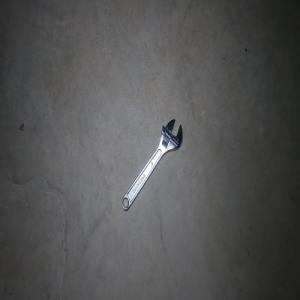Wrench: (121, 118, 182, 211)
